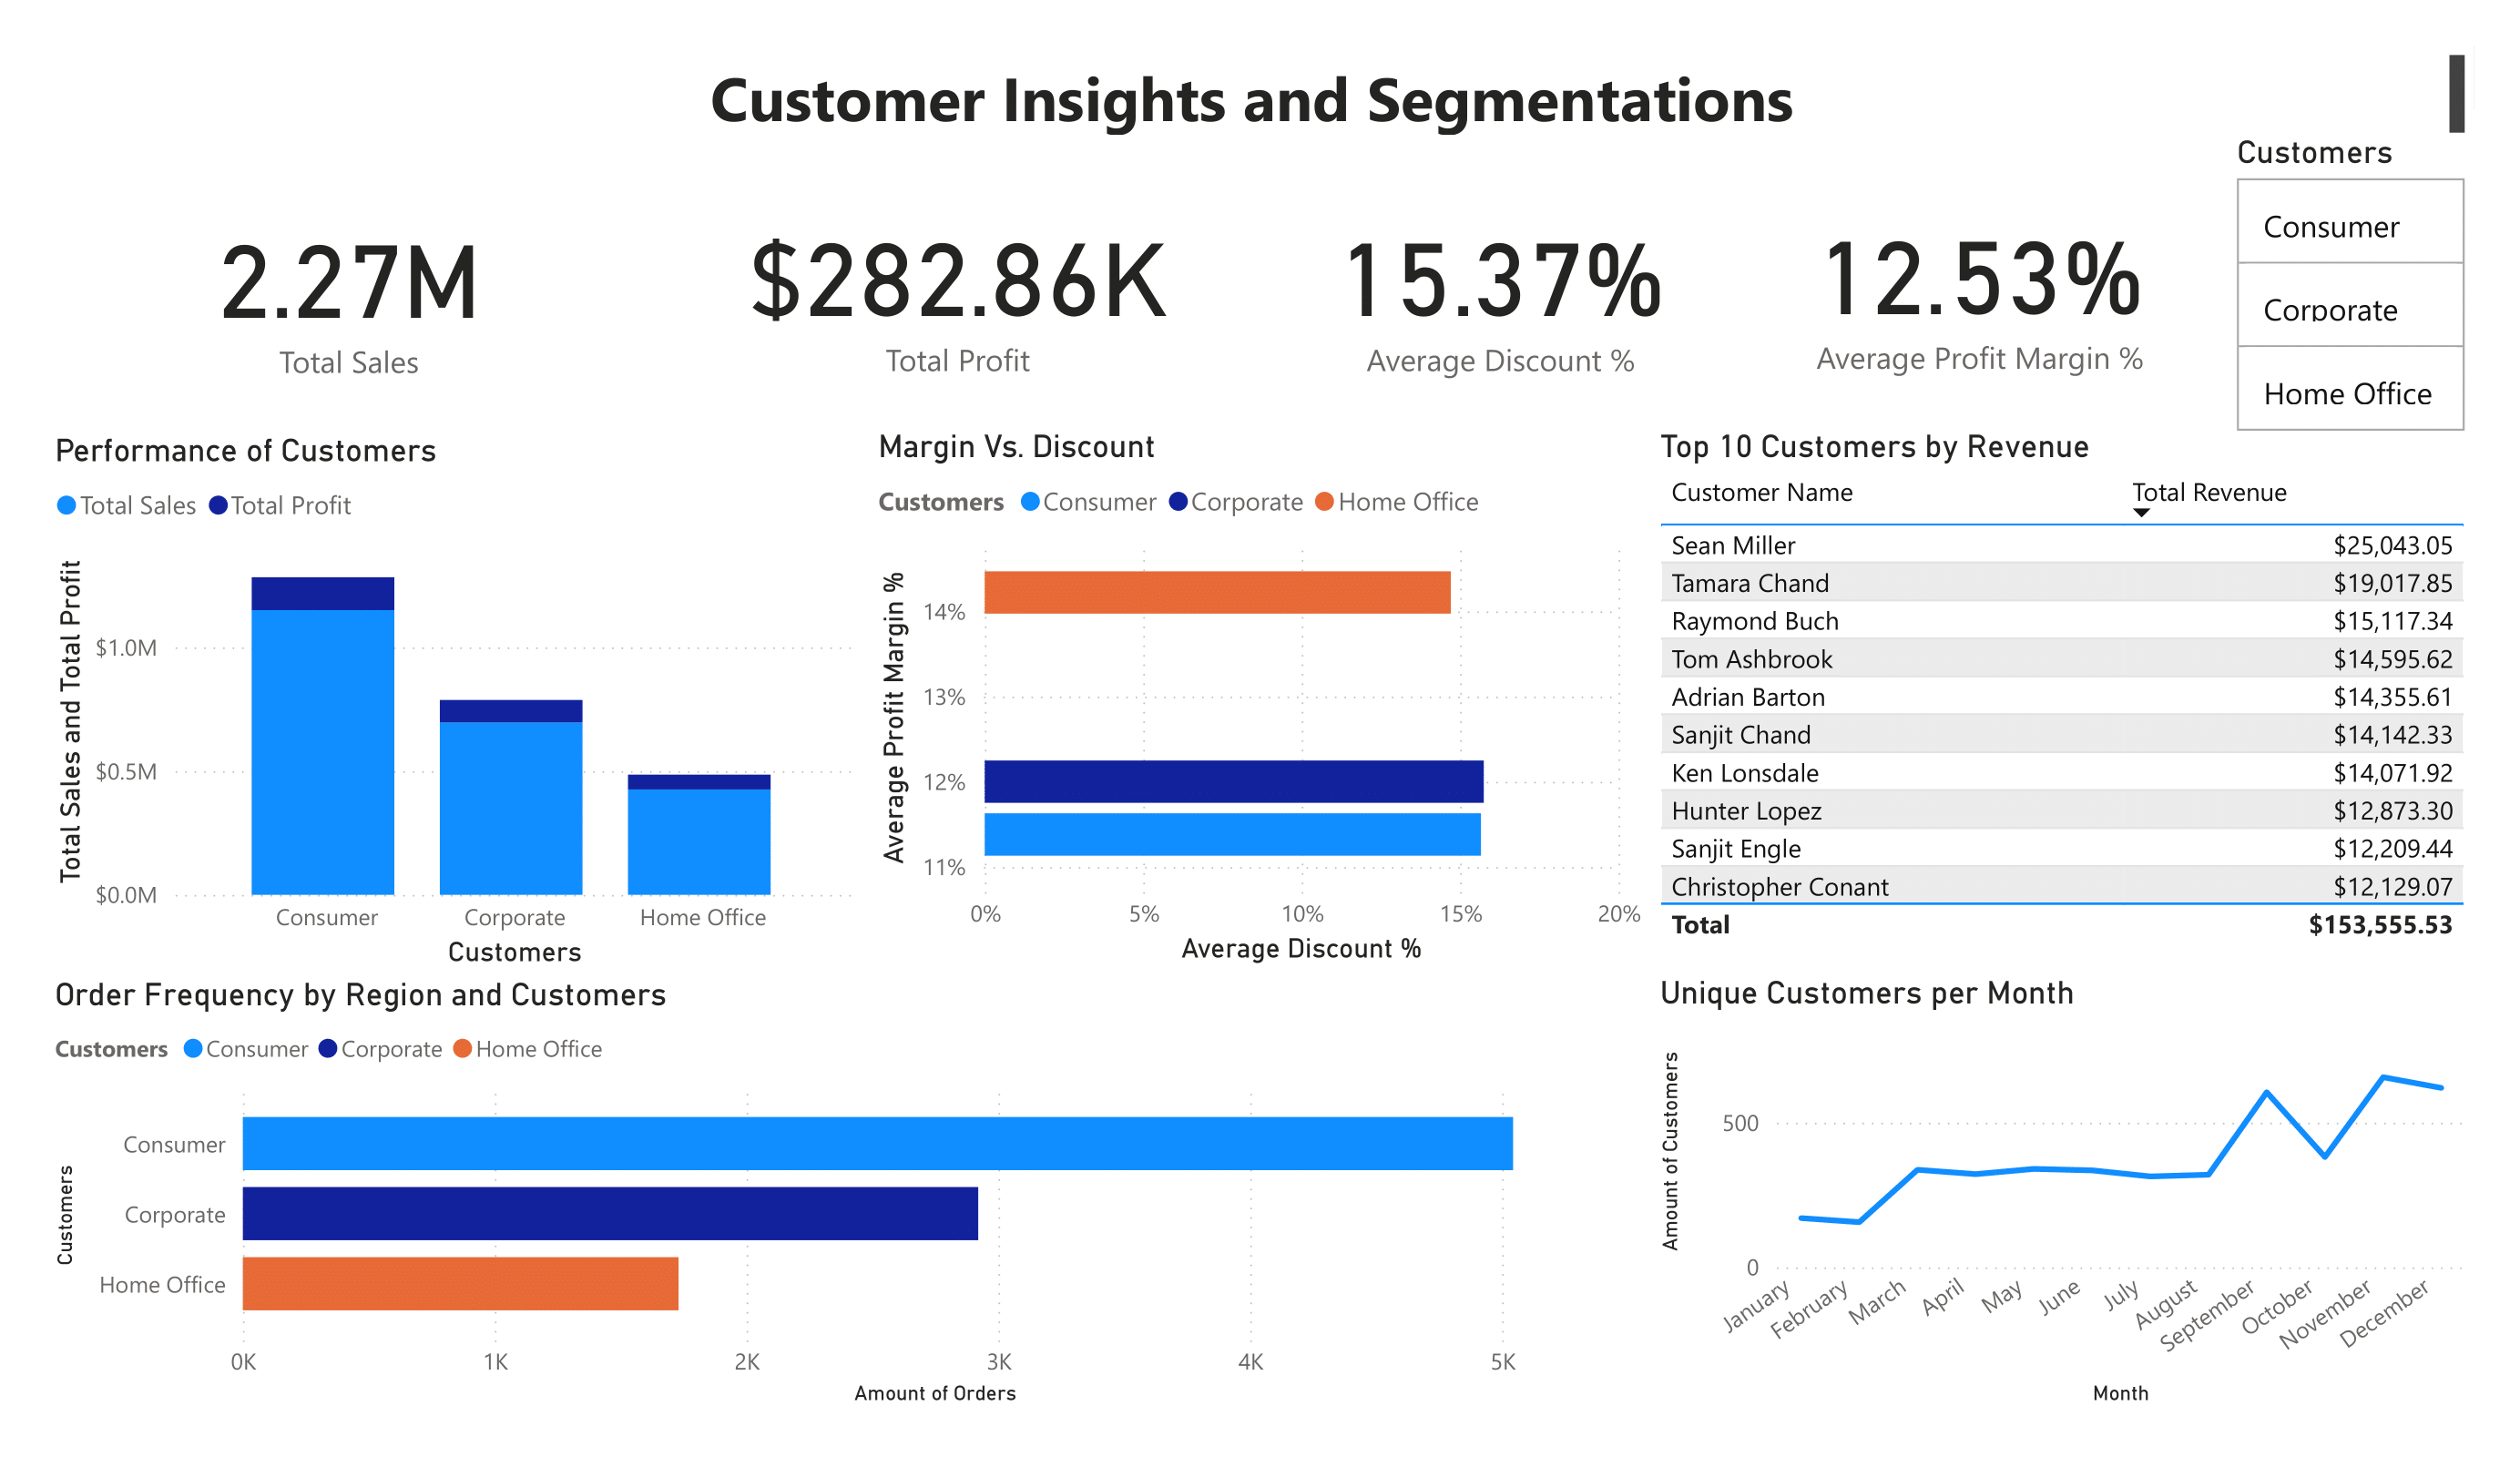

The dashboard page shown, as its layout file describes it:
{"tool":"powerbi","page":{"name":"Dashboard","canvas":[1280,720],"ordinal":0},"visuals":[{"type":"card","fields":{"Values":["Sum(question 1.Total Sales)"]},"box":[0,52.9,319.7,150.4],"z":0},{"type":"card","fields":{"Values":["Sum(question 1.Total Profit)"]},"box":[320.9,51.7,319.7,150.4],"z":1000},{"type":"card","fields":{"Values":["Avg(question 3.Overall Average Discount)"]},"box":[640.6,51.7,252.7,150.4],"z":2000},{"type":"textbox","box":[0,0,1280,52.1],"z":3000},{"type":"card","fields":{"Values":["Avg(question 3.Overall Profit Margin)"]},"box":[893.3,50.5,252.7,150.4],"z":4000},{"type":"columnChart","title":"Performance of Customers","fields":{"Category":["question 1.Segment"],"Y":["Sum(question 1.Total Sales)","Sum(question 1.Total Profit)"]},"box":[0,203.3,431.4,288],"z":5000},{"type":"barChart","title":"Margin Vs. Discount","fields":{"Category":["question 3.Overall Profit Margin"],"Y":["Avg(question 3.Overall Average Discount)"],"Series":["question 3.Segment"]},"box":[433.7,201,412.6,288],"z":6000},{"type":"barChart","title":"Order Frequency by Region and Customers","fields":{"Y":["Sum(question 5.Amount of Orders)"],"Category":["question 5.Segment"],"Series":["question 5.Segment"]},"box":[0,490.1,846.3,230.4],"z":7000},{"type":"tableEx","title":"Top 10 Customers by Revenue","fields":{"Values":["question 2 FOR VISUALIZATION.Customer Name","Sum(question 2 FOR VISUALIZATION.Total Revenue)"]},"box":[846.3,201,433.7,280.9],"z":8000},{"type":"lineChart","title":"Unique Customers per Month","fields":{"Category":["question 4 FOR VISUALIZATION.Month.Variation.Date Hierarchy.Month"],"Y":["Sum(question 4 FOR VISUALIZATION.Unique Customers)"]},"box":[846.3,489,433.7,231.6],"z":8001},{"type":"advancedSlicerVisual","fields":{"Values":["question 1.Segment"]},"box":[1149.5,45.8,130.5,164.6],"z":8002}]}

Visuals, with their boxes on the page's 1280x720 design canvas (x1, y1, x2, y2). These are canvas units, not pixel positions in the 2520x1457 screenshot, which may show the page scaled, cropped or inside an application window:
card - Sum(question 1.Total Sales): locate(0, 53, 320, 203)
card - Sum(question 1.Total Profit): locate(321, 52, 641, 202)
card - Avg(question 3.Overall Average Discount): locate(641, 52, 893, 202)
textbox: locate(0, 0, 1280, 52)
card - Avg(question 3.Overall Profit Margin): locate(893, 50, 1146, 201)
"Performance of Customers" columnChart: locate(0, 203, 431, 491)
"Margin Vs. Discount" barChart: locate(434, 201, 846, 489)
"Order Frequency by Region and Customers" barChart: locate(0, 490, 846, 720)
"Top 10 Customers by Revenue" tableEx: locate(846, 201, 1280, 482)
"Unique Customers per Month" lineChart: locate(846, 489, 1280, 721)
advancedSlicerVisual - question 1.Segment: locate(1150, 46, 1280, 210)
